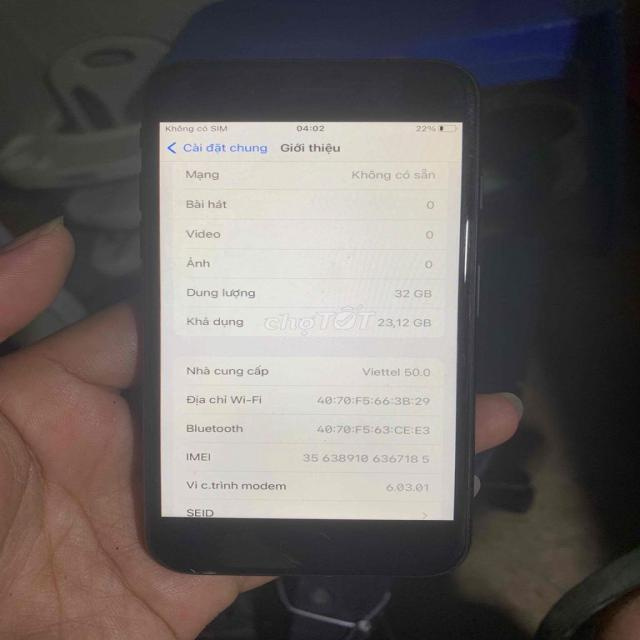scratch: (464, 78, 478, 167), (178, 556, 225, 574)
